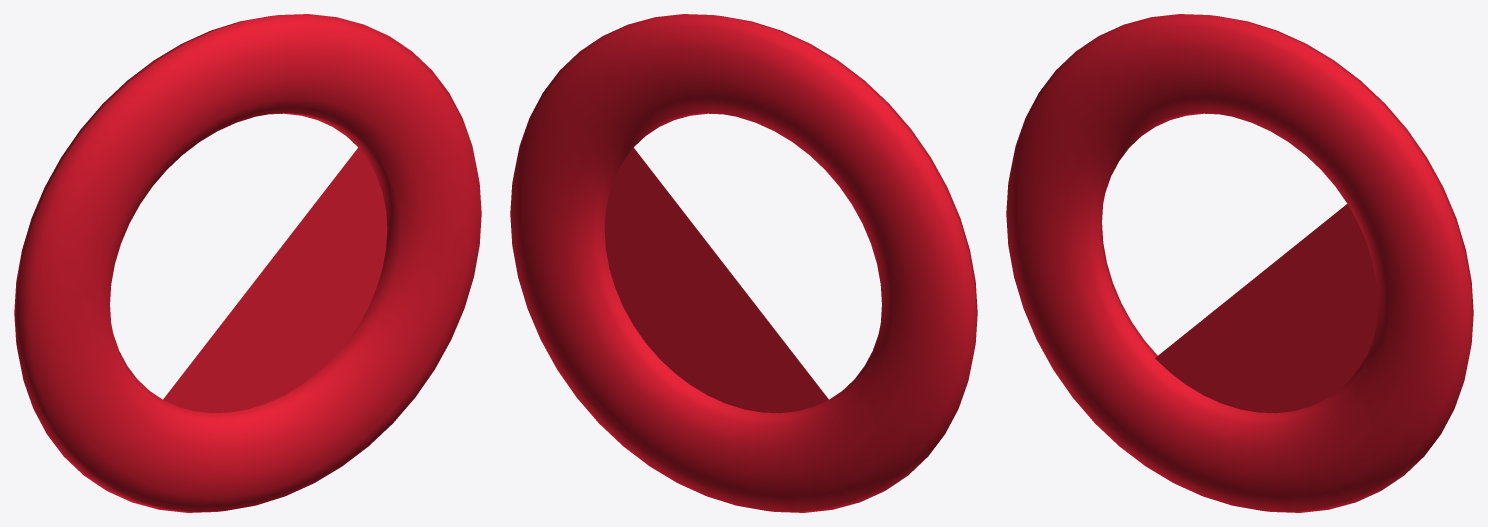
The model's file is special_circle2.2.glb.
3 views of the same model, side by side, from view 1: azimuth 30°, elevation 25°; view 2: azimuth 150°, elevation 25°; view 3: azimuth 330°, elevation 25° (orthographic).
Visible parts, largest first — view 1: 环体; view 2: 环体; view 3: 环体.
Part boxes in pixels (bbox=[...]): 环体: bbox=[14, 14, 481, 512]; 环体: bbox=[510, 14, 977, 512]; 环体: bbox=[1006, 14, 1473, 512].
Bounding box in the file's own units: 2.2 × 2.2 × 0.25.
